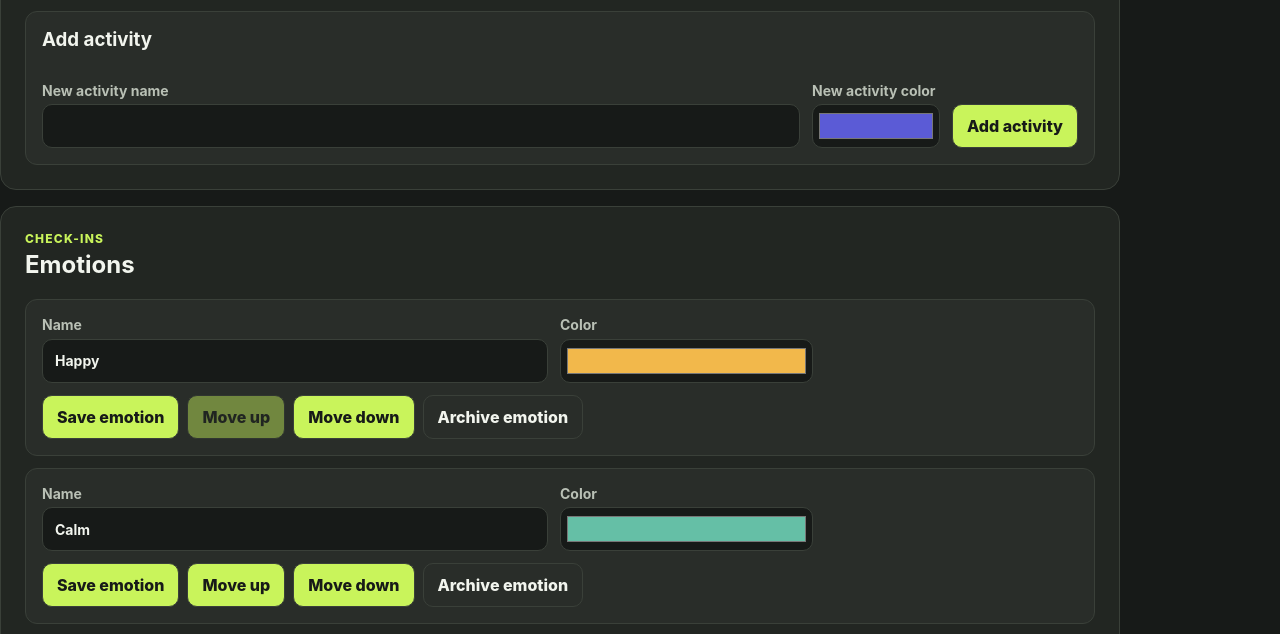
Scenario: SettingsScreen › renames, recolors, reorders, adds, and archives emotions
(page scrolled)
Replace the text in the 1st field labelled "Name" with "Joyful": (295, 361) [42,339,548,383]
In the 1st colour field labelled "Color": (686, 361) [560,339,813,383], type "#fedcba"
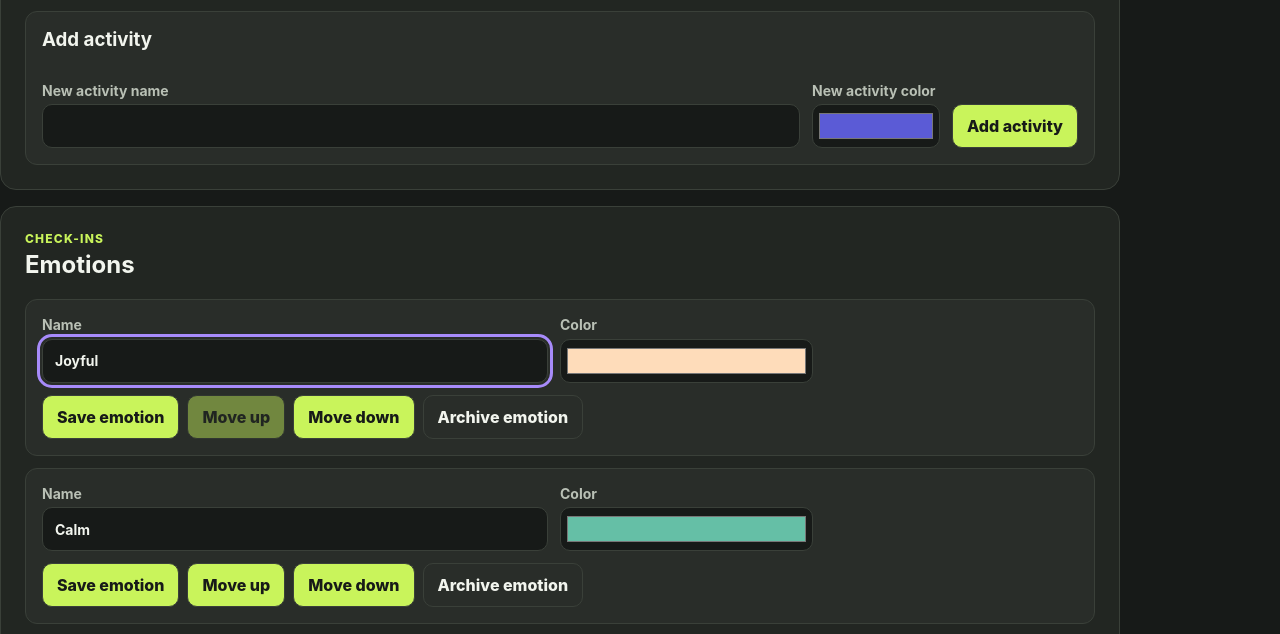
Click the 1st button "Save emotion": click(111, 417) [42,395,179,439]
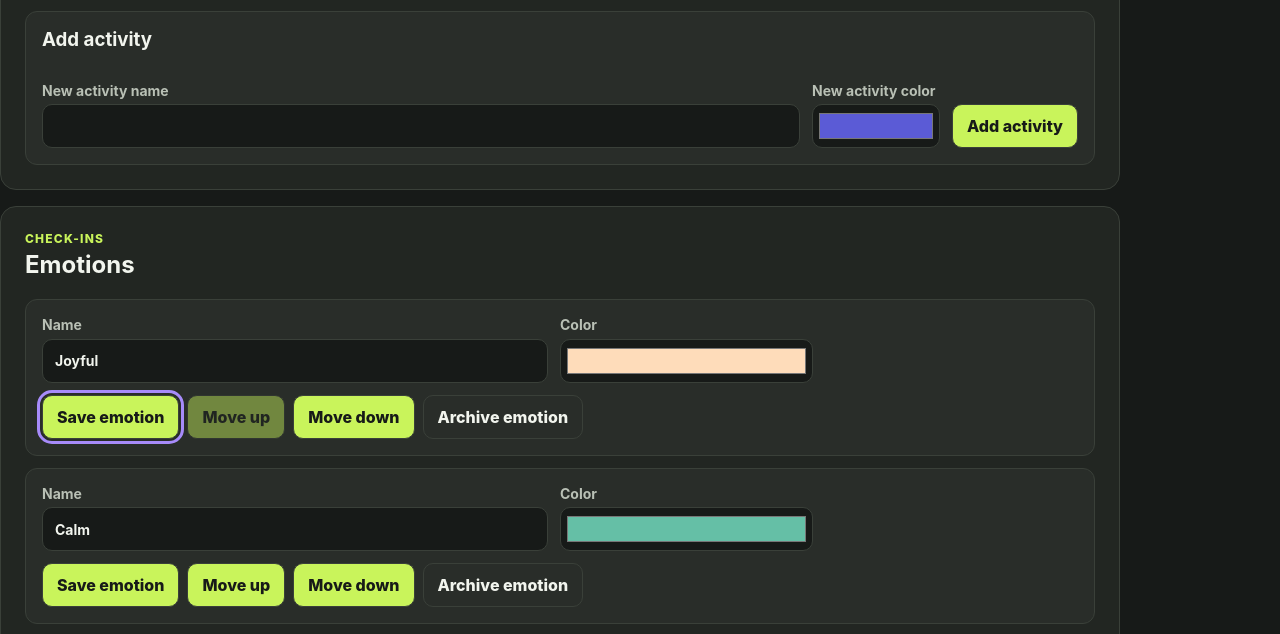
Click the 1st button "Move down": click(354, 417) [293,395,414,439]
(page scrolled)
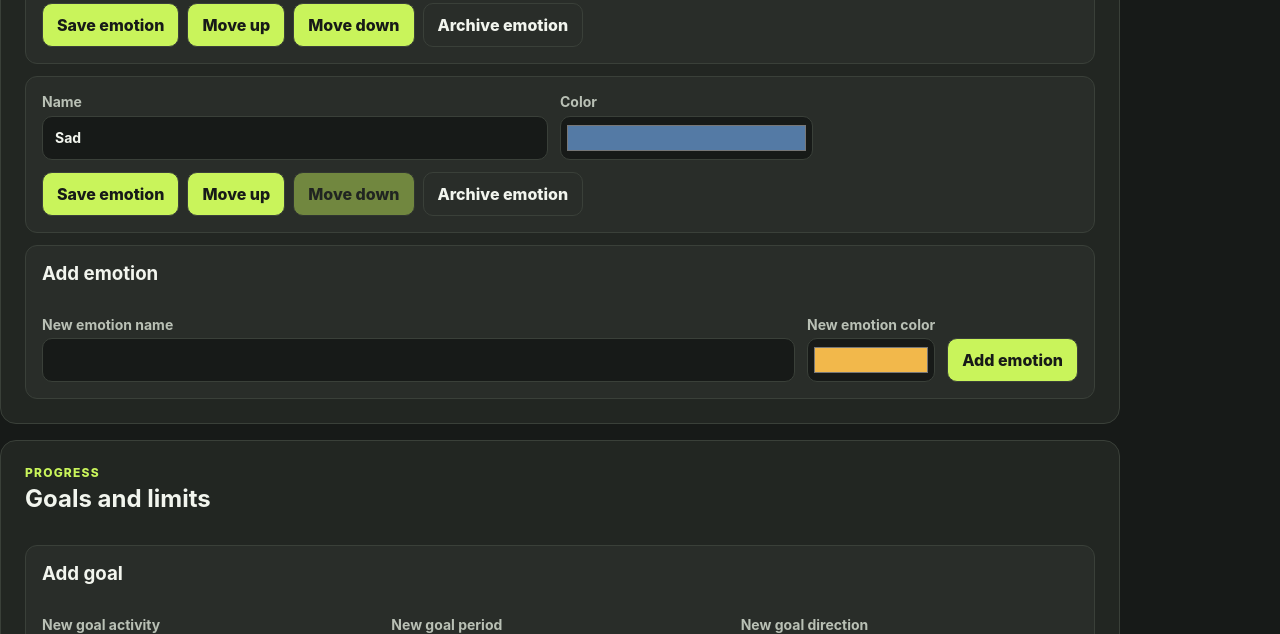
In the field labelled "New emotion name": (418, 360) [42,338,795,382], type "Content"
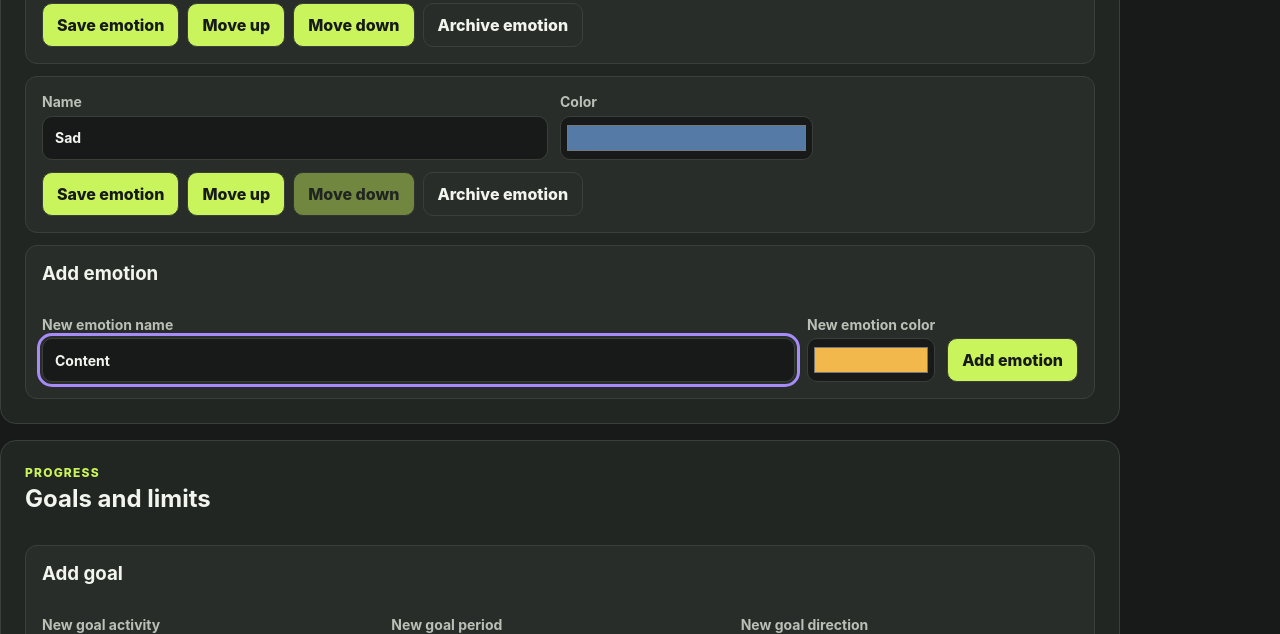
Click the button "Add emotion": click(1013, 360) [947,338,1078,382]
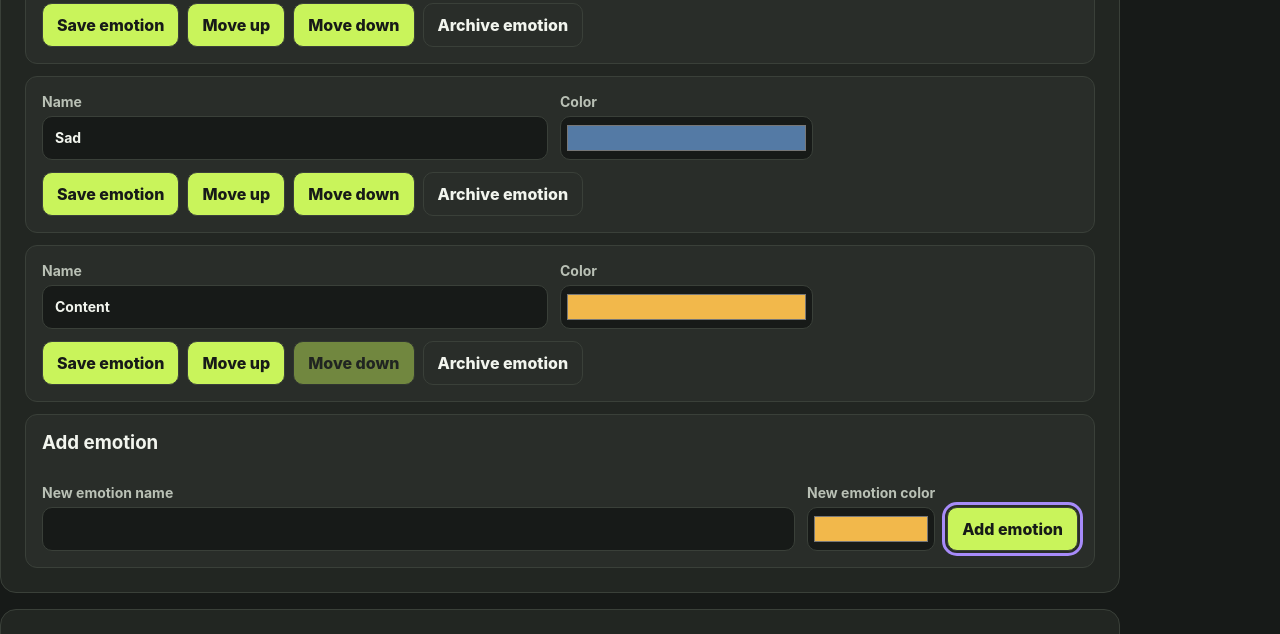
Click the 3rd button "Archive emotion": click(503, 362) [422,340,583,384]
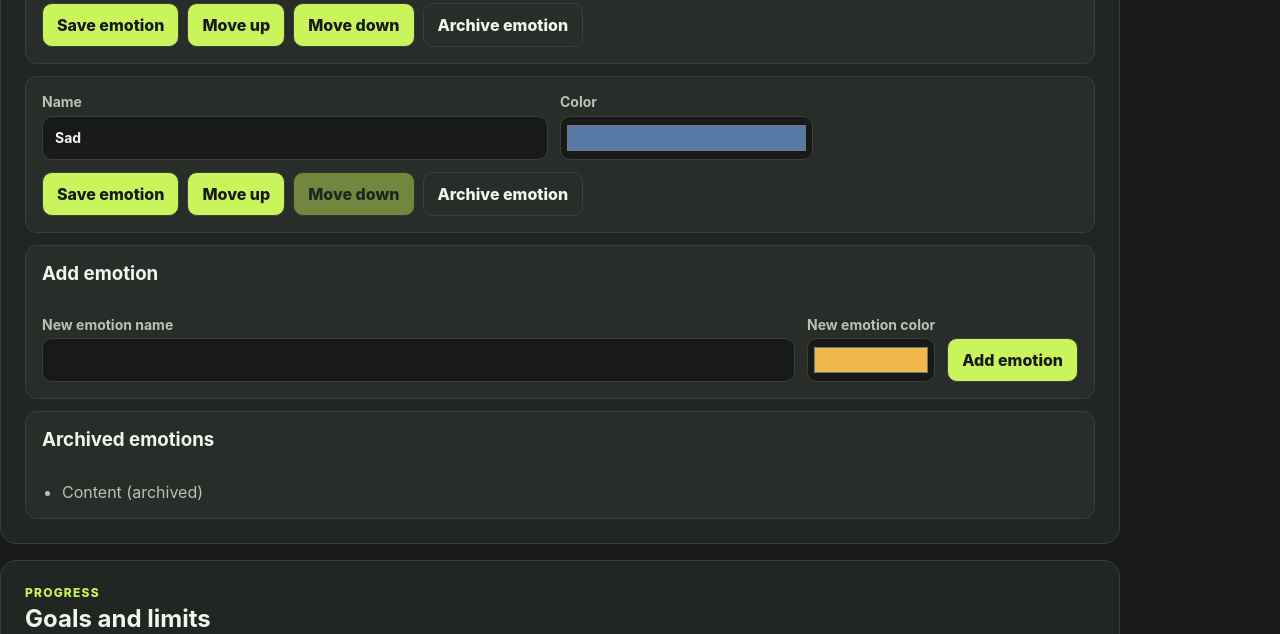
Expected: the list item "Content (archived)" is shown, [62,482,203,502]
